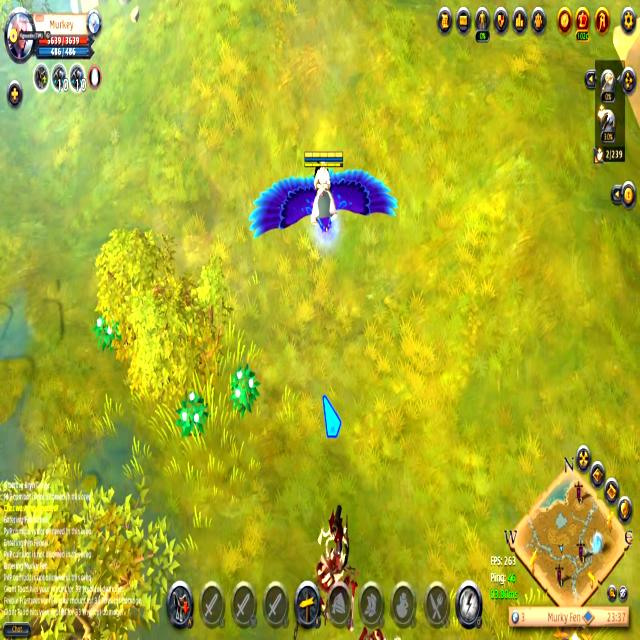hide: (174, 387, 212, 446), (227, 361, 261, 419), (91, 308, 128, 357)
ore: (315, 487, 355, 589)
red: (240, 144, 402, 247)
